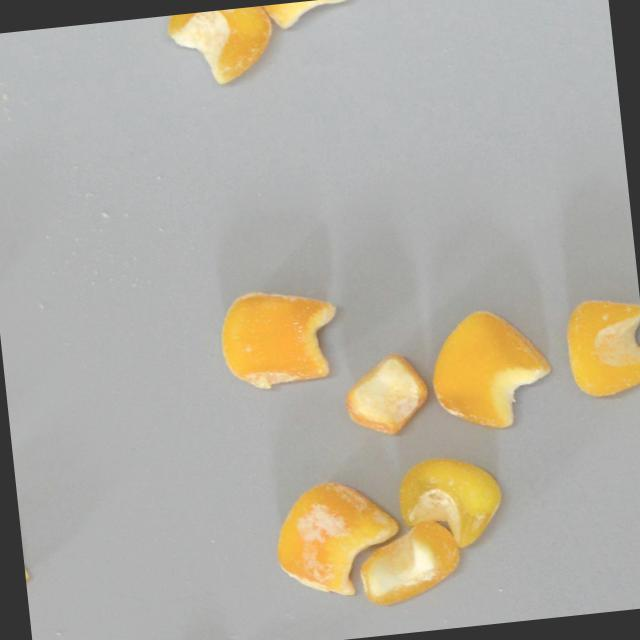no_canjicado: (556, 287, 640, 404)
pelicula: (422, 296, 561, 440), (267, 469, 409, 605), (210, 277, 348, 395), (389, 447, 512, 557), (346, 515, 468, 609), (161, 3, 280, 91), (338, 346, 434, 441), (256, 0, 355, 31)
